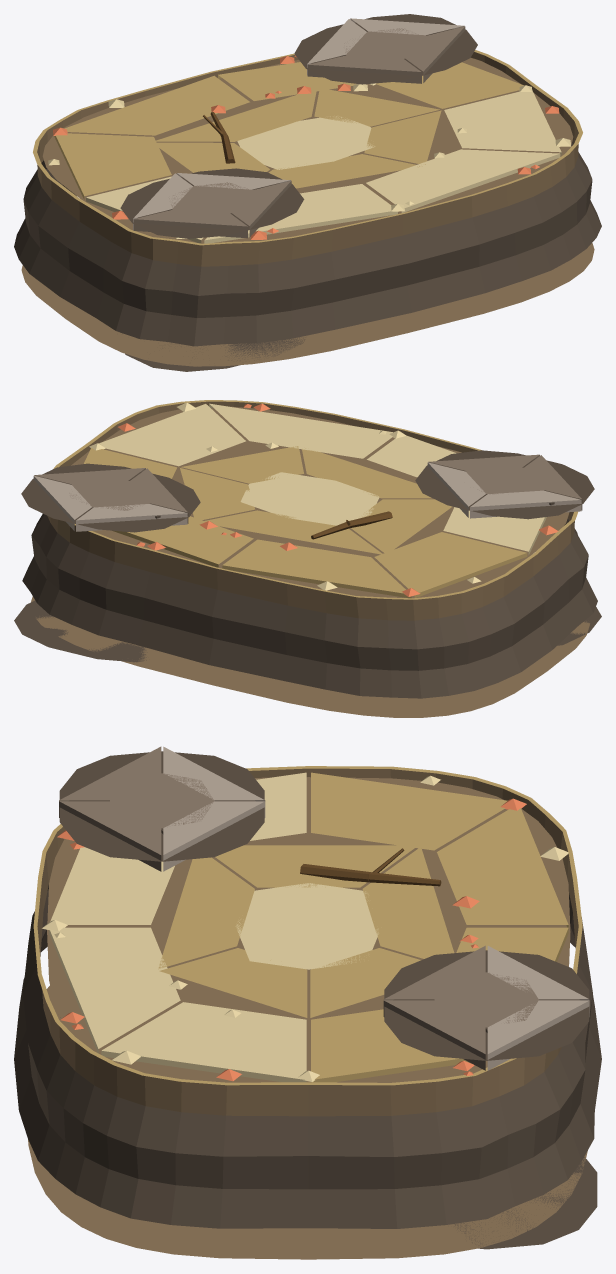
The model's file is AtollCore.fbx.
3 views of the same model, one above another, from view 1: azimuth 30°, elevation 25°; view 2: azimuth 150°, elevation 25°; view 3: azimuth 270°, elevation 25° (orthographic). The views are drawn at different scales.
Parts seen in each view (by area): view 1: AtollCore; view 2: AtollCore; view 3: AtollCore.
Part boxes in pixels (x1,y1,x2,y2): AtollCore: (14,14,601,371); AtollCore: (14,400,601,717); AtollCore: (14,746,601,1259).
Size of the model in its own units: 1542 by 411 by 1123.
